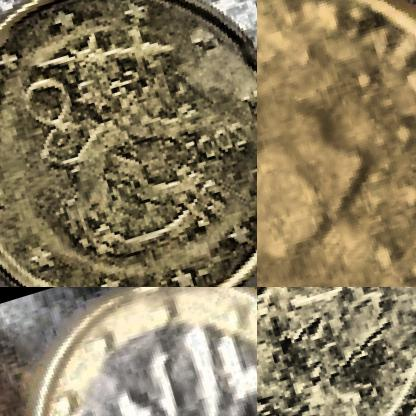coin: (0, 0, 256, 286), (257, 0, 415, 286), (0, 287, 256, 415), (257, 287, 415, 415)
